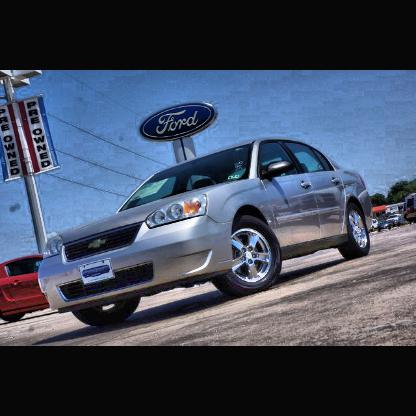Chevrolet Malibu Sedan 2007: (40, 140, 375, 329)
